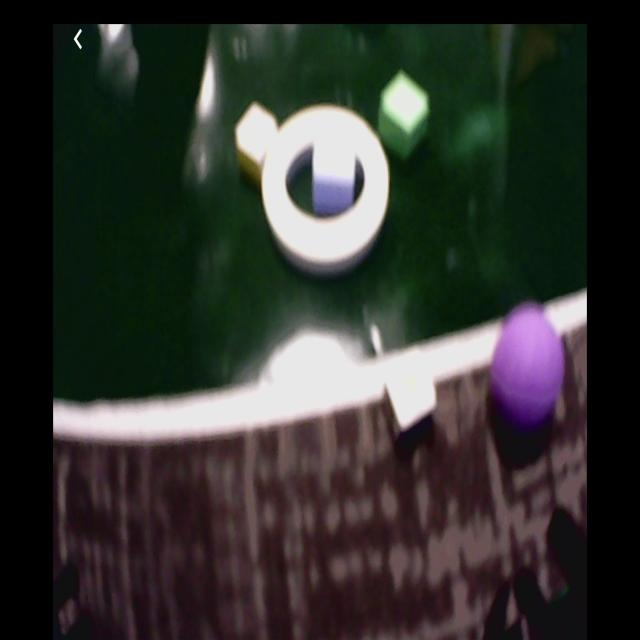ball: (493, 303, 567, 423)
